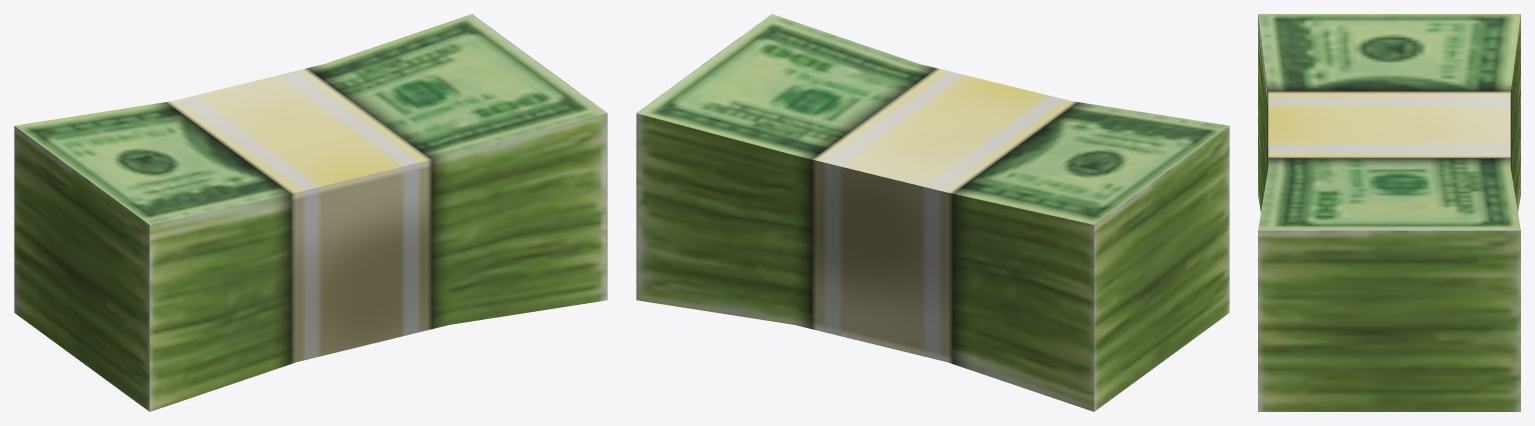
The model's file is CashModel.fbx.
The picture shows the model from 3 angles, left to right: view 1: azimuth 30°, elevation 25°; view 2: azimuth 150°, elevation 25°; view 3: azimuth 270°, elevation 25°; orthographic projection. The views are drawn at different scales.
Visible parts, largest first — view 1: Cash; view 2: Cash; view 3: Cash.
Boxes of the visible parts, box(x1,y1,x2,y2) form: Cash: box(14, 14, 607, 411); Cash: box(636, 14, 1229, 411); Cash: box(1258, 14, 1520, 411).
Size of the model in its own units: 0.6 by 0.2341 by 0.3076.
1 material, 1 textured.
